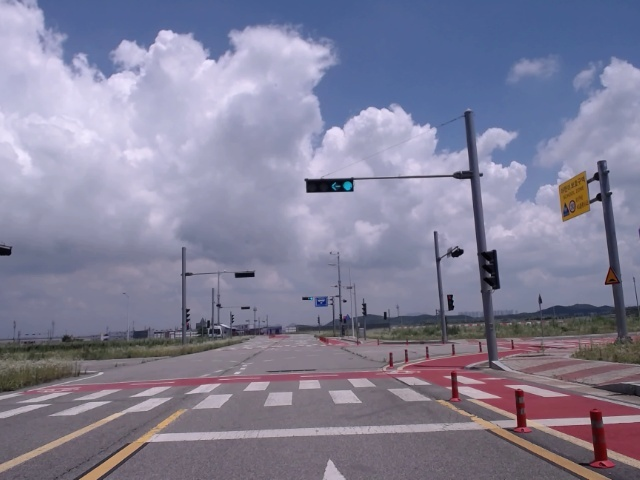all_green_4: (305, 177, 354, 192)
